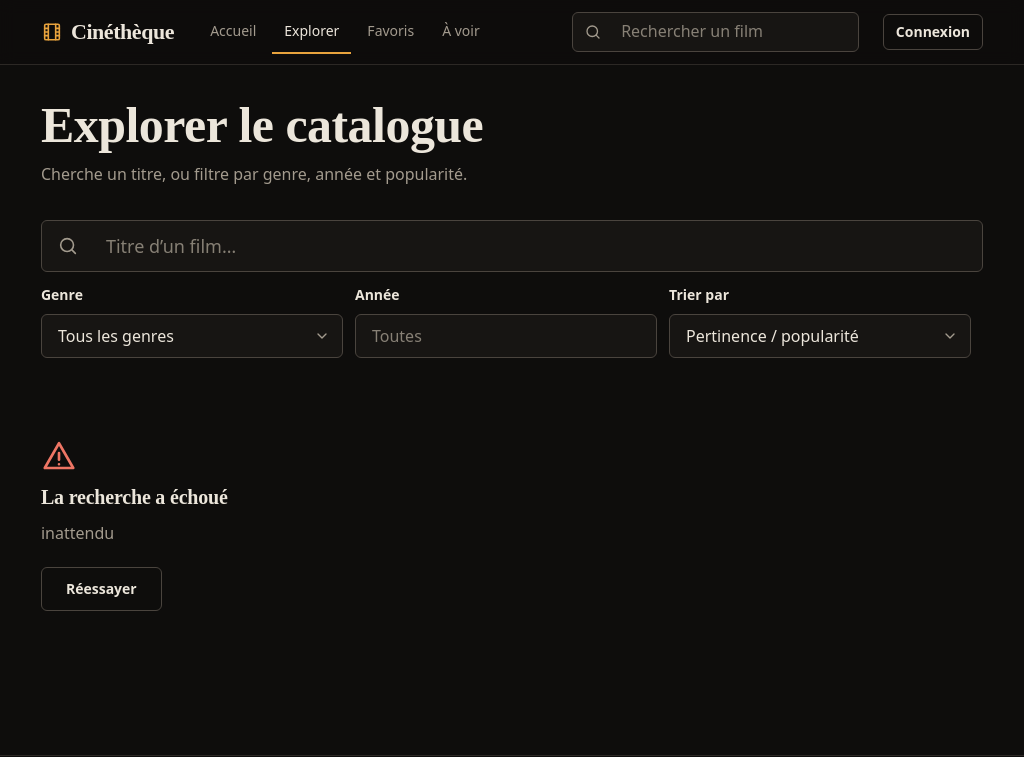
Scenario: application › recherche avec debounce et envoie la requête à l’API
Type "dune" into the search field named "Rechercher un film". click: (512, 246)
box: [41,220,983,272]
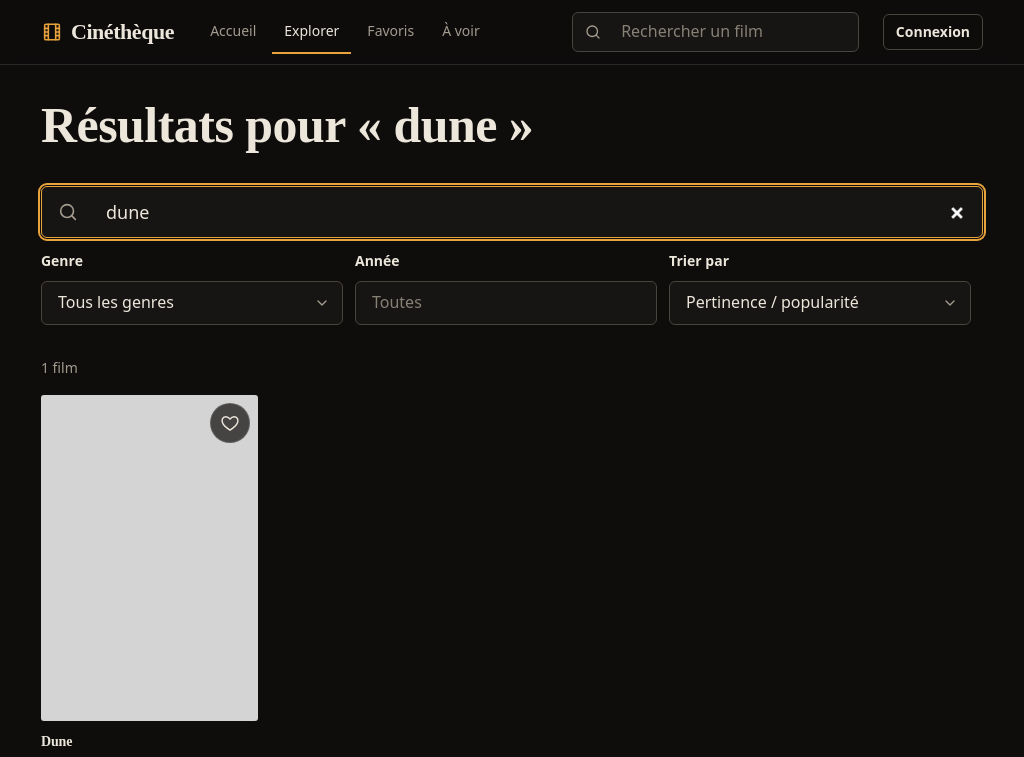
Check: the heading "Résultats pour « dune »" is shown, box [41,98,533,153]
